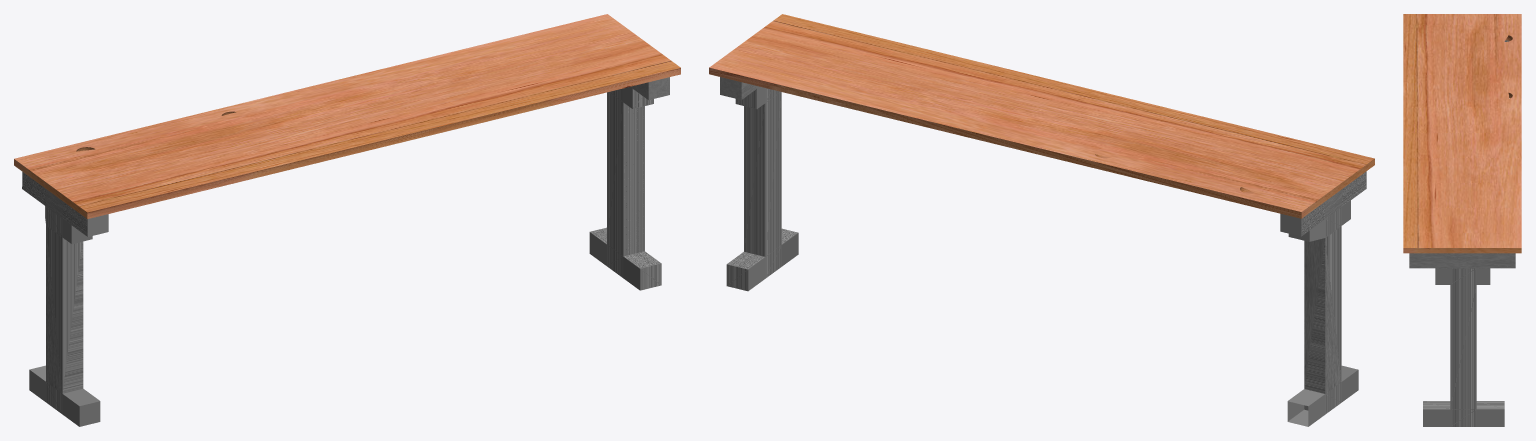
File: mesa.obj
3 views of the same model, side by side, from view 1: azimuth 30°, elevation 25°; view 2: azimuth 150°, elevation 25°; view 3: azimuth 270°, elevation 25° (orthographic). The views are drawn at different scales.
Visible parts, largest first — view 1: Cube, Cube.001_Cube.004; view 2: Cube, Cube.001_Cube.004; view 3: Cube, Cube.001_Cube.004.
Boxes of the visible parts, x1,y1,x2,y2 form: Cube: [14, 14, 680, 218]; Cube.001_Cube.004: [22, 77, 669, 426]; Cube: [709, 14, 1374, 218]; Cube.001_Cube.004: [720, 77, 1366, 426]; Cube: [1403, 14, 1521, 253]; Cube.001_Cube.004: [1409, 40, 1515, 426].
Bounding box in the file's own units: 5.6 × 2.03 × 1.2.
2 materials, 2 textured.
